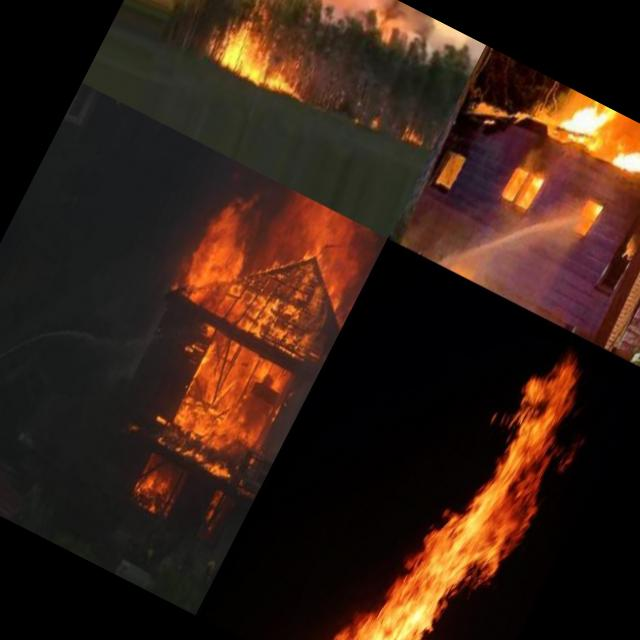fire: (253, 270, 640, 640), (168, 323, 298, 466), (216, 244, 342, 368), (204, 10, 320, 109), (167, 208, 263, 324), (559, 94, 634, 166), (128, 458, 184, 518), (603, 120, 640, 200), (342, 100, 390, 140), (391, 116, 432, 155), (195, 488, 230, 532)
smoke: (295, 0, 453, 73), (446, 29, 484, 58)
